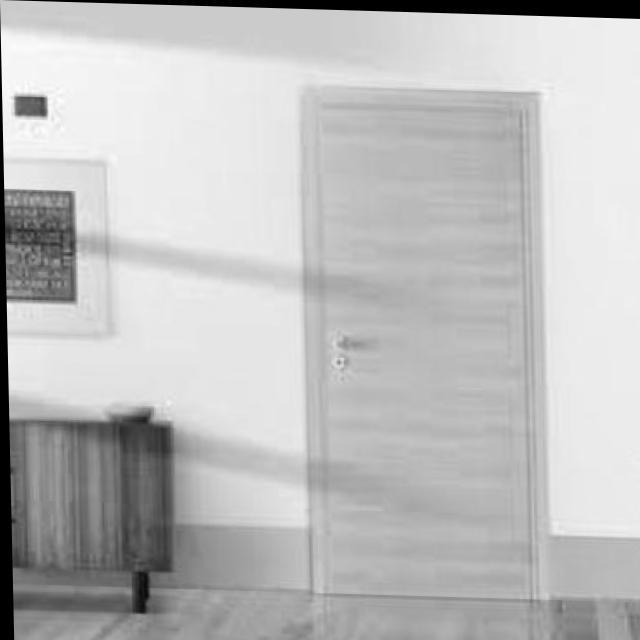door_handle: (317, 326, 364, 358)
